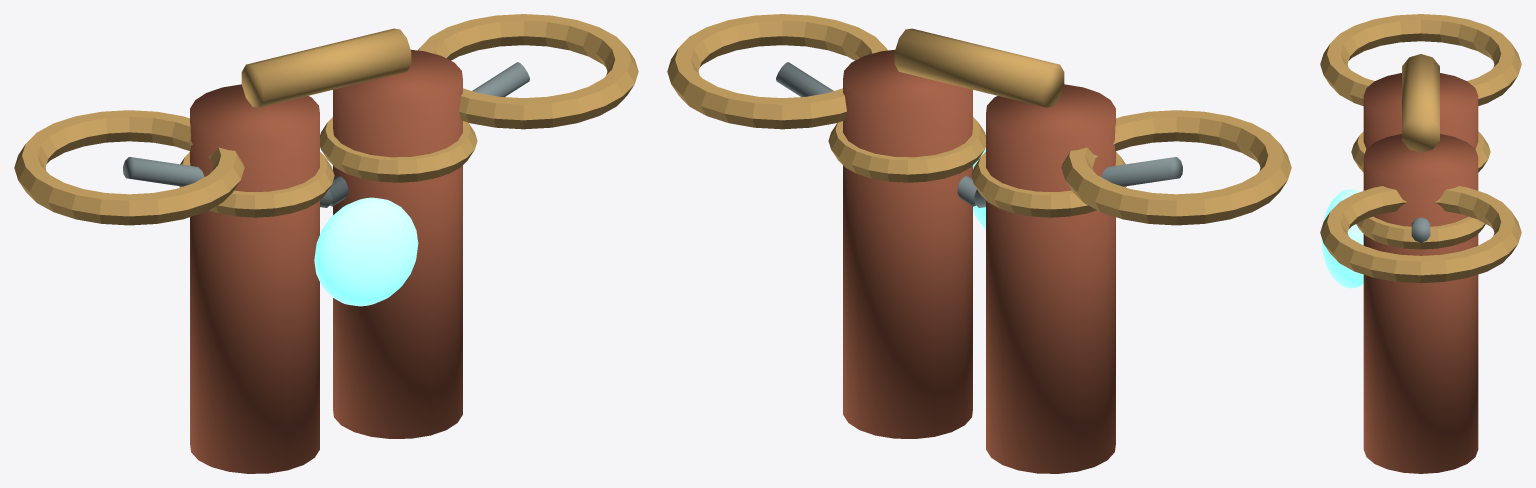
Rendered from relic-droneHive.glb.
3 renders of one model, left to right at view 1: azimuth 30°, elevation 25°; view 2: azimuth 150°, elevation 25°; view 3: azimuth 270°, elevation 25°, orthographic. The views are drawn at different scales.
Parts seen in each view (by area): view 1: relic-droneHive / Copper | patinated oxblood, relic-droneHive / Brass | machined champagne, relic-droneHive / Glass | luminous mint, relic-droneHive / Iron | weathered steel; view 2: relic-droneHive / Copper | patinated oxblood, relic-droneHive / Brass | machined champagne, relic-droneHive / Iron | weathered steel; view 3: relic-droneHive / Copper | patinated oxblood, relic-droneHive / Brass | machined champagne, relic-droneHive / Glass | luminous mint, relic-droneHive / Iron | weathered steel.
Part boxes in pixels (box(x1,y1,x2,y2)): relic-droneHive / Copper | patinated oxblood: box(190, 49, 462, 473); relic-droneHive / Brass | machined champagne: box(14, 14, 638, 225); relic-droneHive / Glass | luminous mint: box(314, 197, 418, 306); relic-droneHive / Iron | weathered steel: box(123, 62, 529, 207); relic-droneHive / Copper | patinated oxblood: box(843, 49, 1115, 473); relic-droneHive / Brass | machined champagne: box(667, 14, 1291, 225); relic-droneHive / Iron | weathered steel: box(776, 62, 1182, 207); relic-droneHive / Copper | patinated oxblood: box(1363, 73, 1478, 473); relic-droneHive / Brass | machined champagne: box(1320, 14, 1521, 283); relic-droneHive / Glass | luminous mint: box(1321, 189, 1363, 288); relic-droneHive / Iron | weathered steel: box(1411, 217, 1430, 242).
Size of the model in its own units: 2.41 by 1.48 by 0.81.
